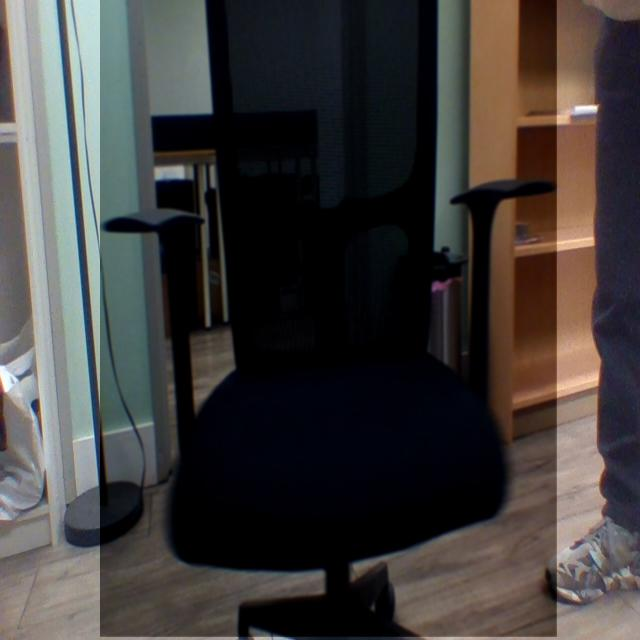black-chair: (100, 0, 558, 638)
